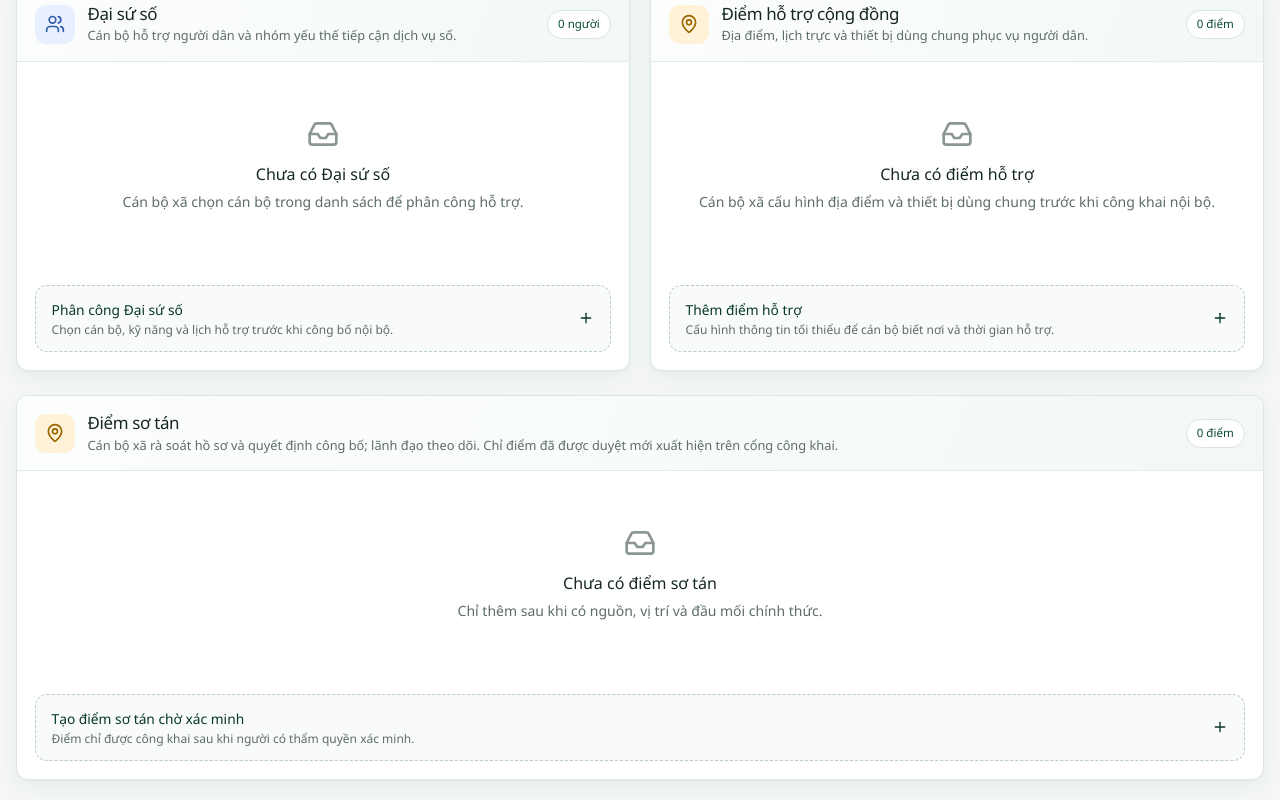
Test case: KnowledgeCenter role boundaries › blocks out-of-range evacuation coordinates before saving
(page scrolled)
Step 1. Click the text "Tạo điểm sơ tán chờ xác minh" → click(148, 718), box [52,709,244,728]
(page scrolled)
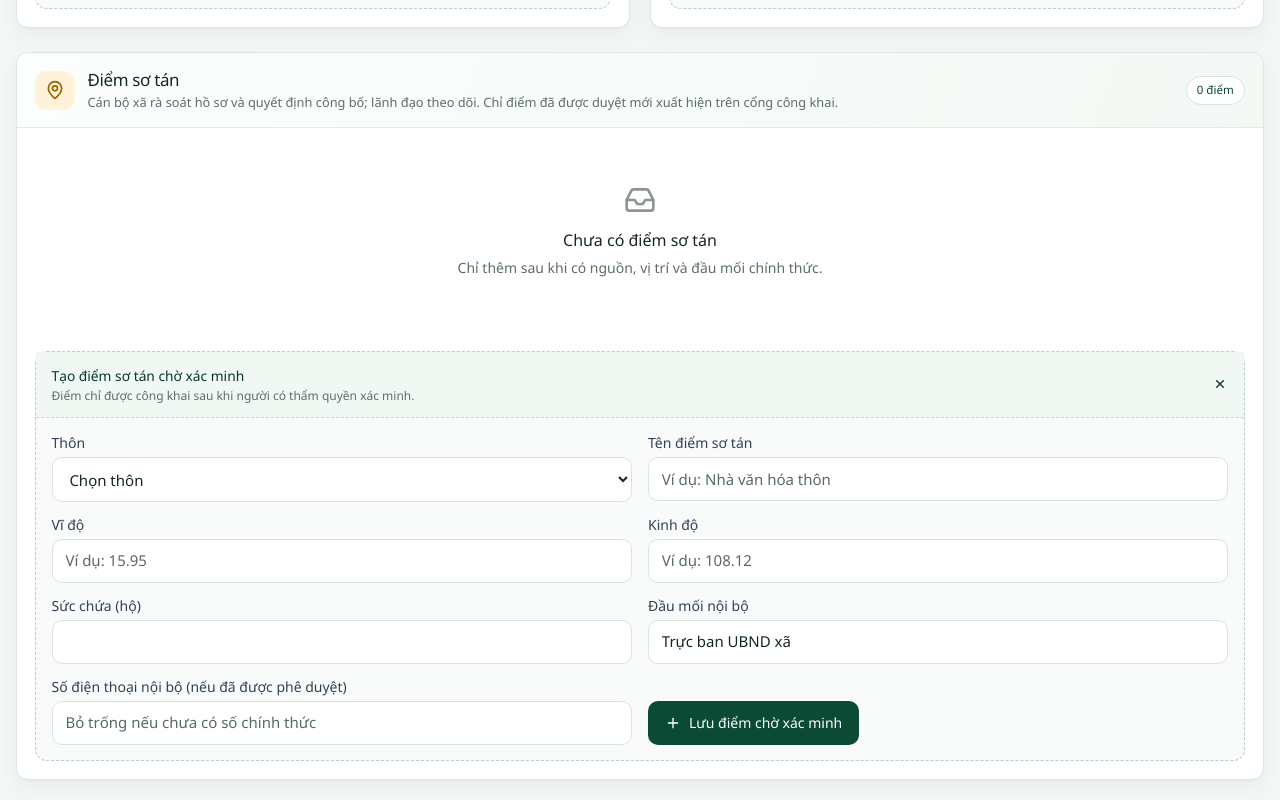
Step 2. Select "Thôn An Sơn" in the dropdown labelled "Thôn" → (342, 480), box [52,457,632,502]
Step 3. Type "Nhà văn hóa" into the field labelled "Tên điểm sơ tán" → (938, 479), box [648,457,1228,501]
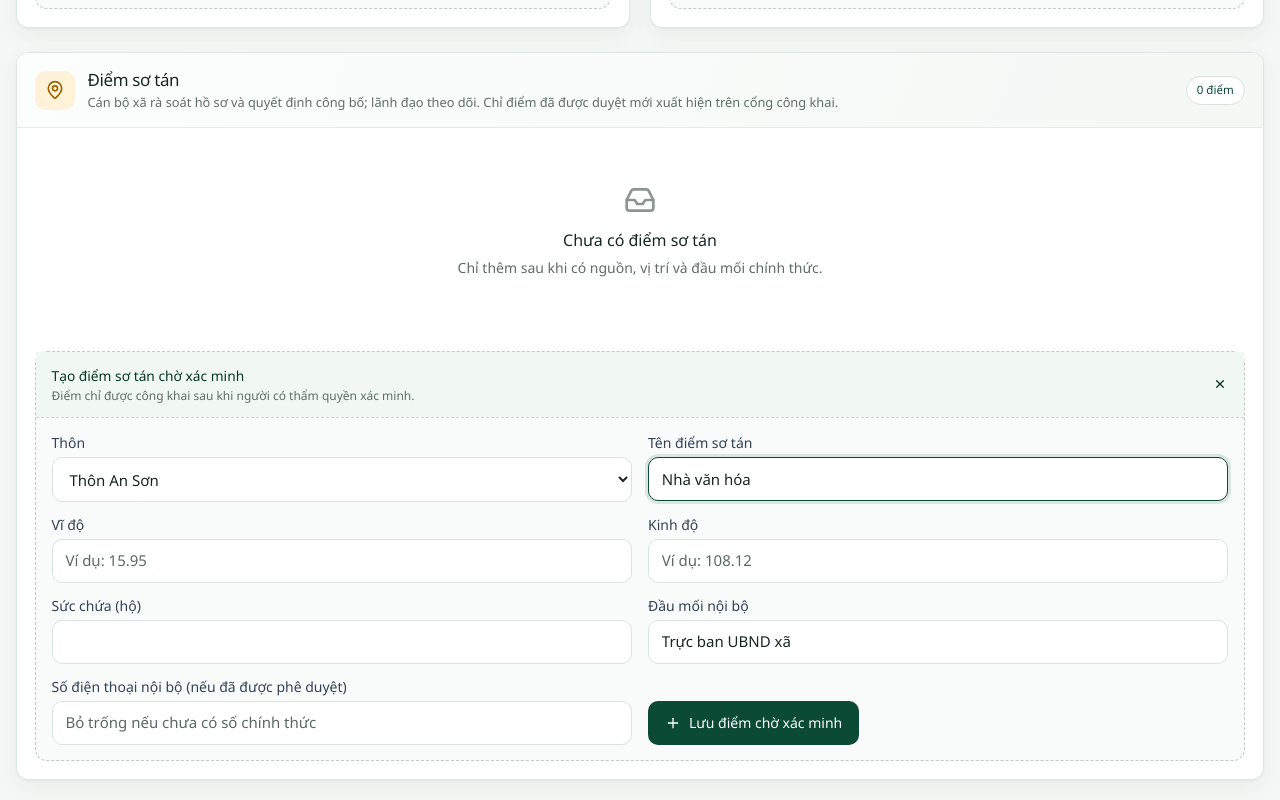
Step 4. Type "91" into the number field labelled "Vĩ độ" → (342, 561), box [52,539,632,583]
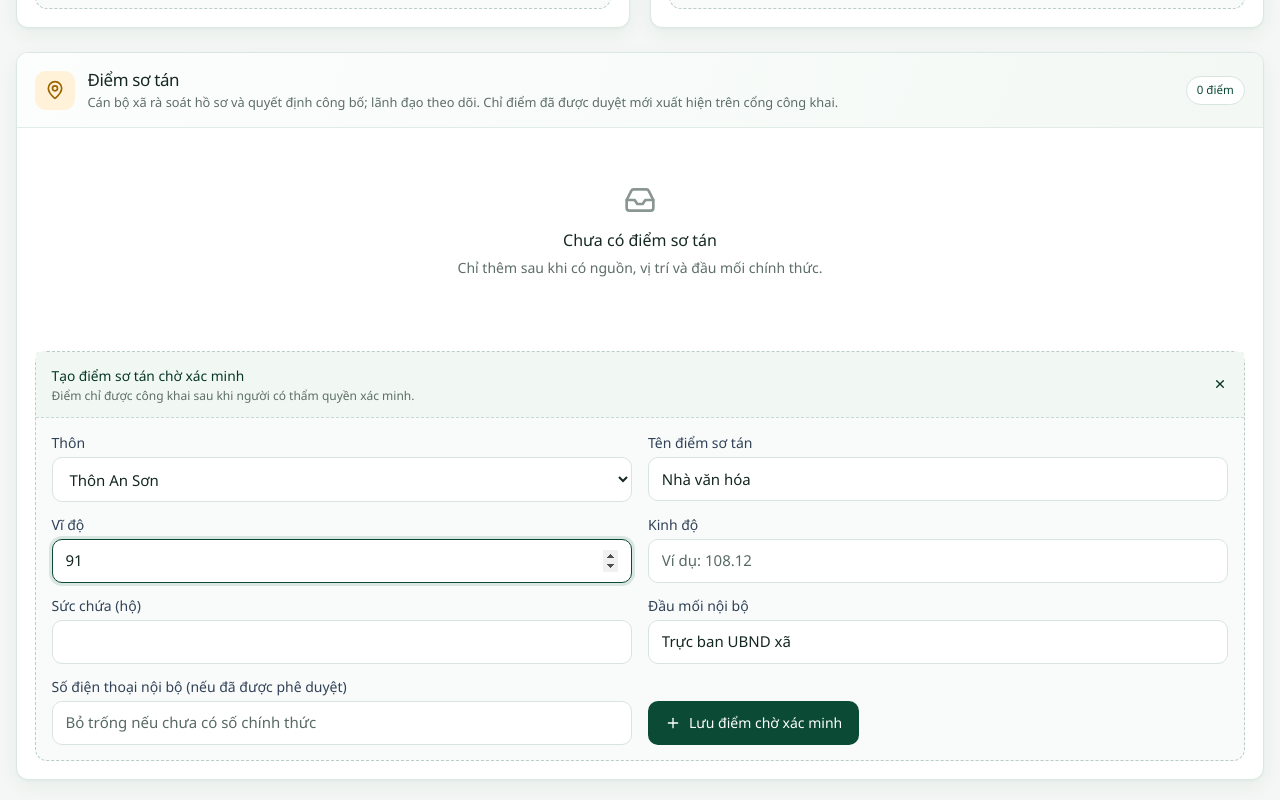
Step 5. Type "108.12" into the number field labelled "Kinh độ" → (938, 561), box [648,539,1228,583]
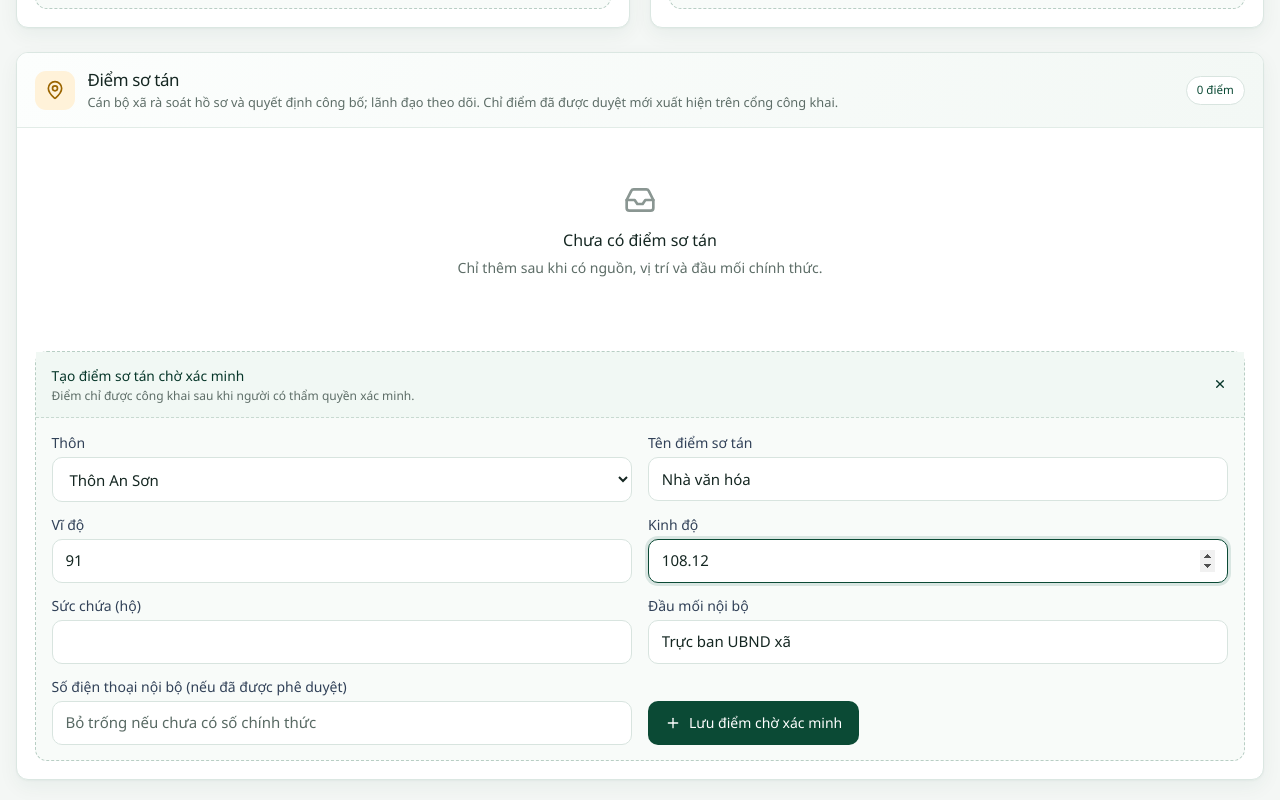
Step 6. Type "100" into the number field labelled "Sức chứa (hộ)" → (342, 642), box [52,620,632,664]
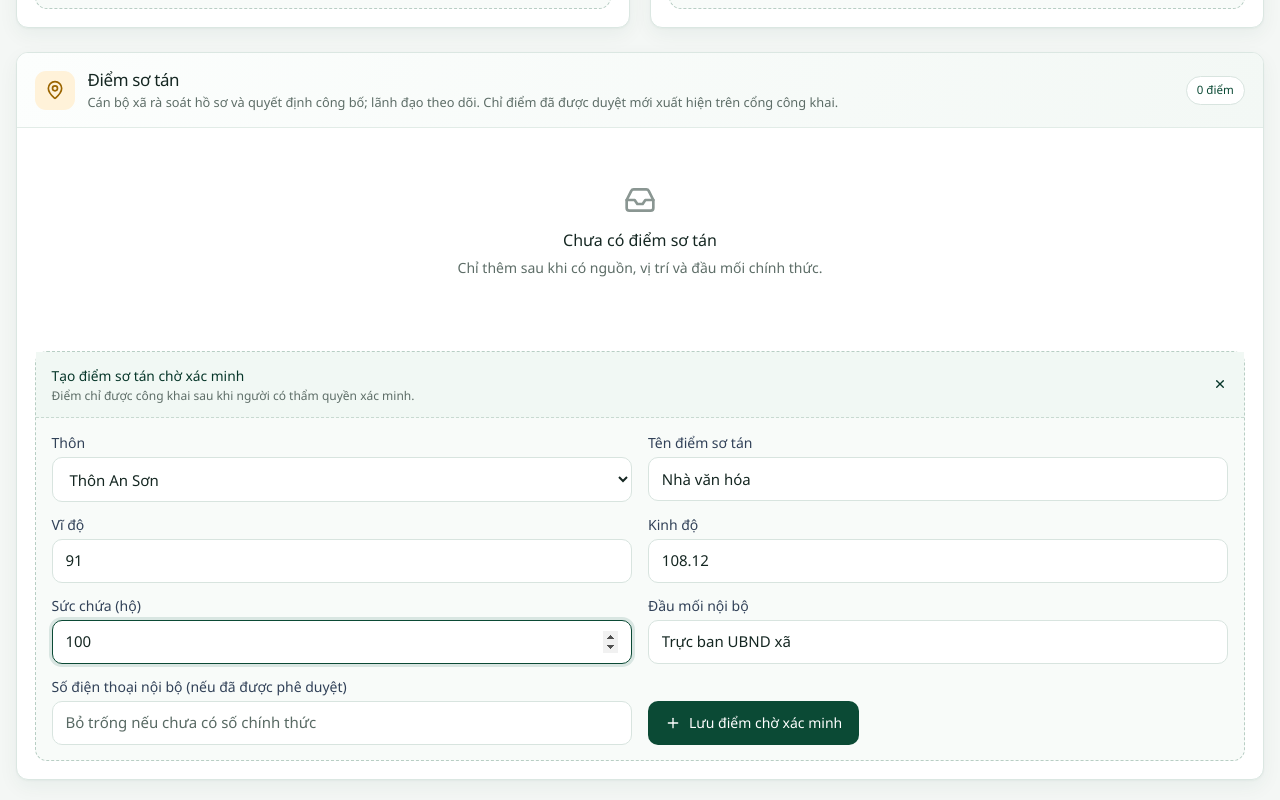
Step 7. Click the button "Lưu điểm chờ xác minh" → click(754, 723), box [648,701,859,745]
(page scrolled)
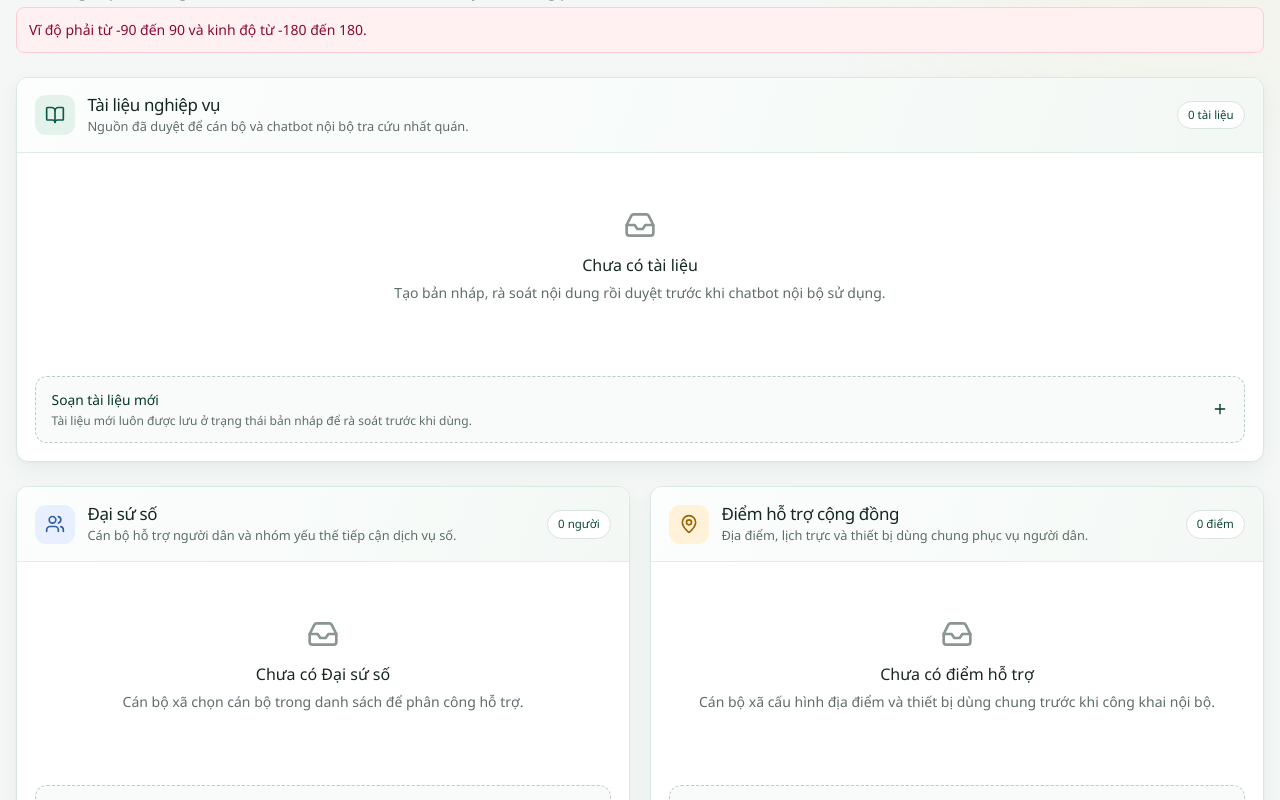
Now the message shows "Vĩ độ phải từ -90 đến 90", box [29,20,367,39]
